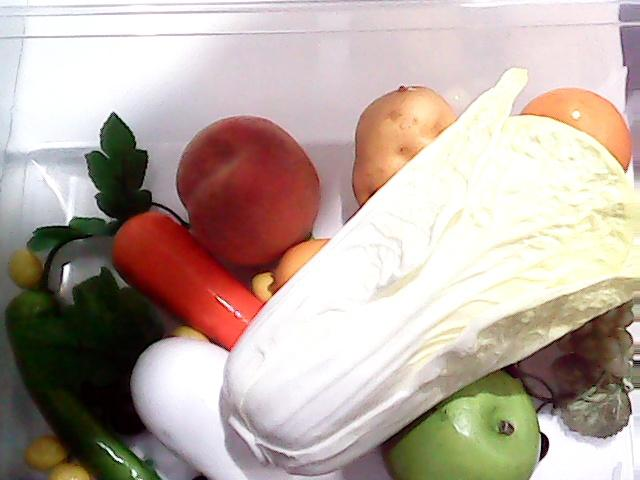apple: (380, 366, 540, 480)
carrot: (27, 110, 269, 352)
lemon: (514, 79, 640, 173)
mango: (252, 269, 284, 303)
napa cabbage: (226, 84, 632, 467)
peach: (174, 111, 322, 268)
pepper: (0, 235, 180, 480)
potato: (352, 83, 461, 209)
radish: (59, 265, 341, 479)
